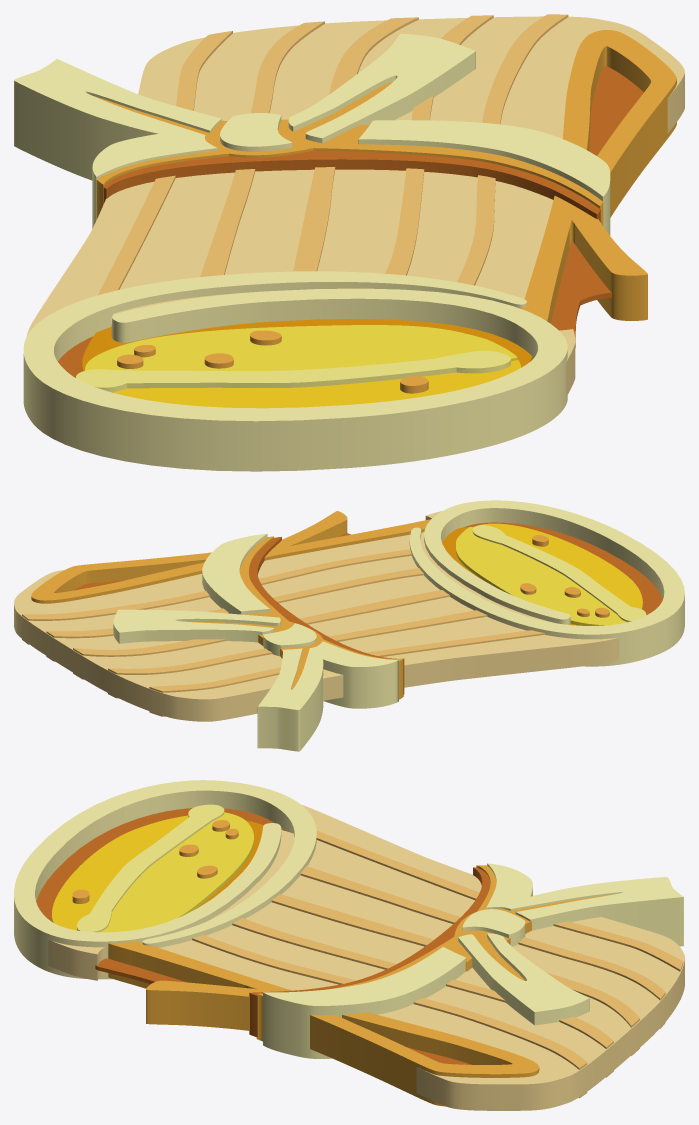
The model's file is emoji_u1fad4.glb.
The picture shows the model from 3 angles, top to bottom: view 1: azimuth 30°, elevation 25°; view 2: azimuth 150°, elevation 25°; view 3: azimuth 270°, elevation 25°; orthographic projection. The views are drawn at different scales.
Visible parts, largest first — view 1: emoji_u1fad4; view 2: emoji_u1fad4; view 3: emoji_u1fad4.
Part boxes in pixels (x1,y1,x2,y2): emoji_u1fad4: (14,14,684,471); emoji_u1fad4: (14,500,684,751); emoji_u1fad4: (14,780,684,1110).
Size of the model in its own units: 0.0338 by 0.0028 by 0.0321.
